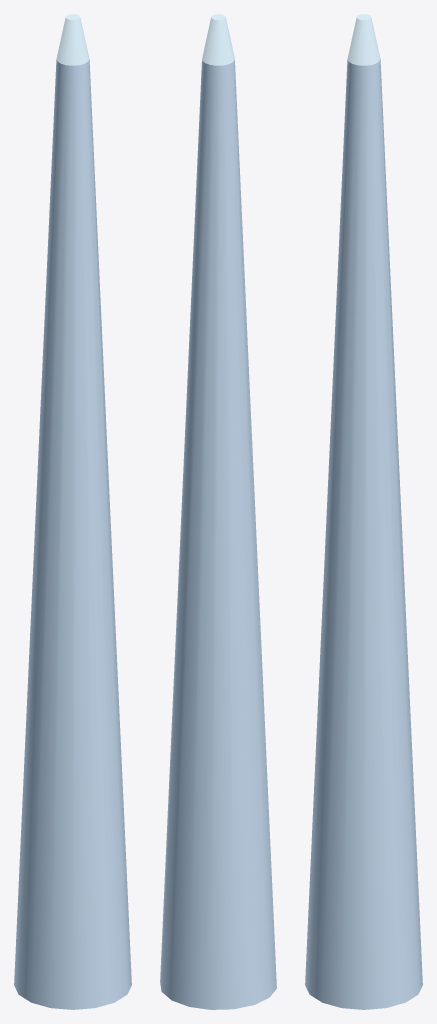
File: lotte-tower.glb
3 views of the same model, side by side, from view 1: azimuth 90°, elevation 25°; view 2: azimuth 150°, elevation 25°; view 3: azimuth 270°, elevation 25° (orthographic).
Parts seen in each view (by area): view 1: Lotte_World_Tower; view 2: Lotte_World_Tower; view 3: Lotte_World_Tower.
Part boxes in pixels (x1,y1,x2,y2): Lotte_World_Tower: [14, 14, 131, 1009]; Lotte_World_Tower: [160, 14, 276, 1009]; Lotte_World_Tower: [305, 14, 422, 1009].
Size of the model in its own units: 64 by 580 by 64.
